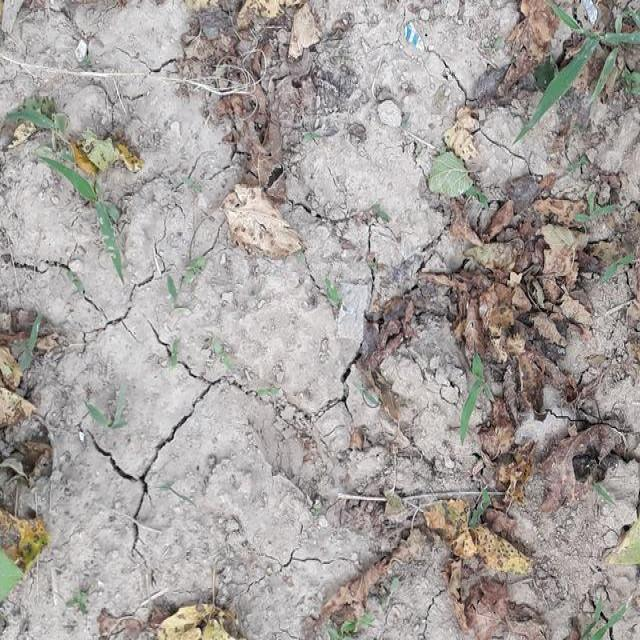weed: (30, 155, 134, 274), (530, 18, 614, 144), (460, 346, 493, 452), (6, 110, 72, 154), (81, 394, 142, 428), (326, 282, 348, 317)
